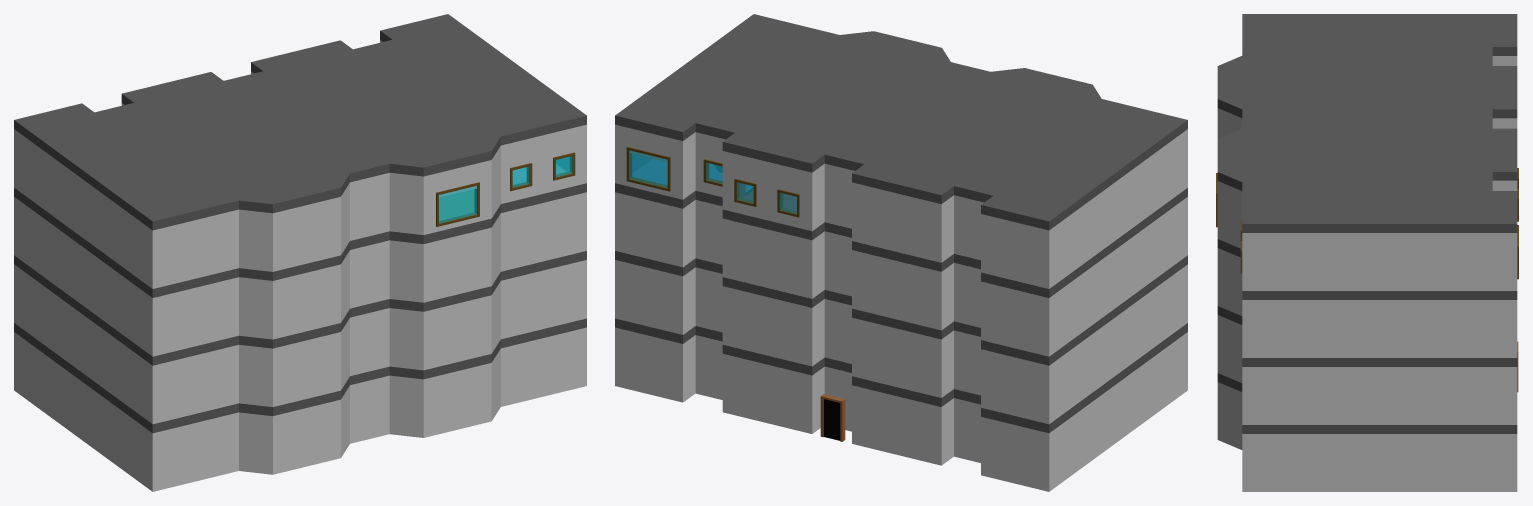
Rendered from level_04_mockup.fbx.
3 renders of one model, left to right at view 1: azimuth 30°, elevation 25°; view 2: azimuth 150°, elevation 25°; view 3: azimuth 270°, elevation 25°, orthographic.
Visible parts, largest first — view 1: Plane.009, Plane.010, Plane.012, Plane.011, Plane.028, Plane.013, Plane.005; view 2: Plane.009, Plane.010, Plane.011, Plane.012, Plane.028, Plane.016, Plane.052, Plane.018; view 3: Plane.009, Plane.012, Plane.011, Plane.010.
Part boxes in pixels (left/top/right/bottom): Plane.009: left=14, top=14, right=586, bottom=288; Plane.010: left=14, top=183, right=586, bottom=356; Plane.012: left=14, top=318, right=586, bottom=491; Plane.011: left=14, top=251, right=586, bottom=424; Plane.028: left=439, top=157, right=569, bottom=220; Plane.013: left=439, top=186, right=477, bottom=223; Plane.005: left=436, top=182, right=479, bottom=226; Plane.009: left=615, top=14, right=1187, bottom=288; Plane.010: left=615, top=183, right=1187, bottom=356; Plane.011: left=615, top=251, right=1187, bottom=424; Plane.012: left=615, top=318, right=1187, bottom=491; Plane.028: left=632, top=154, right=796, bottom=210; Plane.016: left=629, top=150, right=667, bottom=187; Plane.052: left=820, top=394, right=845, bottom=441; Plane.018: left=626, top=147, right=670, bottom=191; Plane.009: left=1217, top=14, right=1517, bottom=290; Plane.012: left=1217, top=373, right=1517, bottom=491; Plane.011: left=1217, top=306, right=1517, bottom=424; Plane.010: left=1217, top=239, right=1517, bottom=357.
Size of what is drawn, in the model's own units: 2016 by 1200 by 1229.
